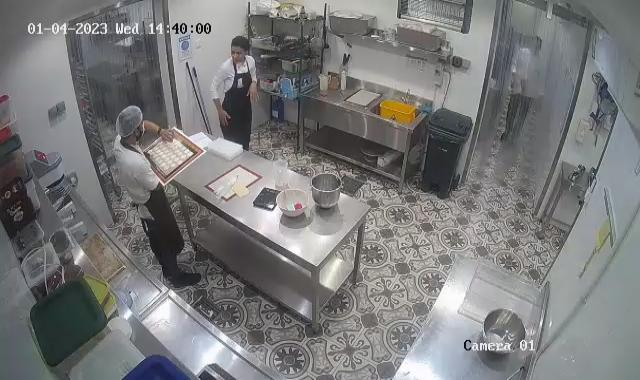hairnet: (116, 102, 142, 138)
no_hairnet: (232, 34, 251, 60)
